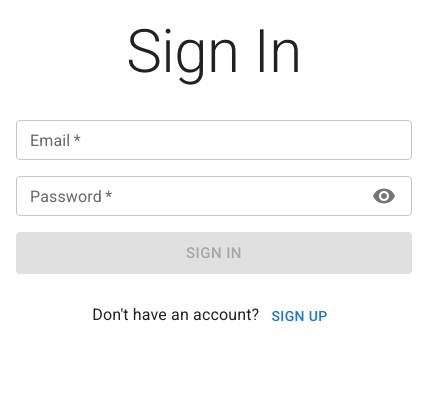
Scenario: AuthForm › should switch to the register form upon clicking on "Sign up"
This screenshot has width=429, height=397.
Click the button "Sign Up" at (300, 317), box [263,298,336,335]
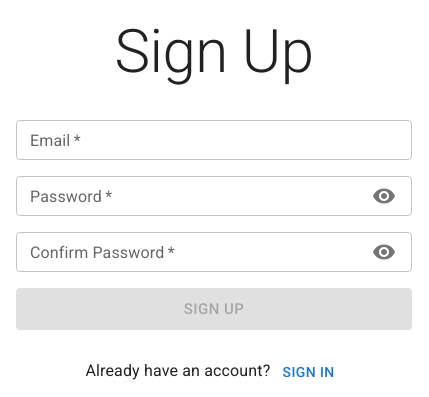
Now the heading "Sign Up" is shown, box [114,16,314,87]
